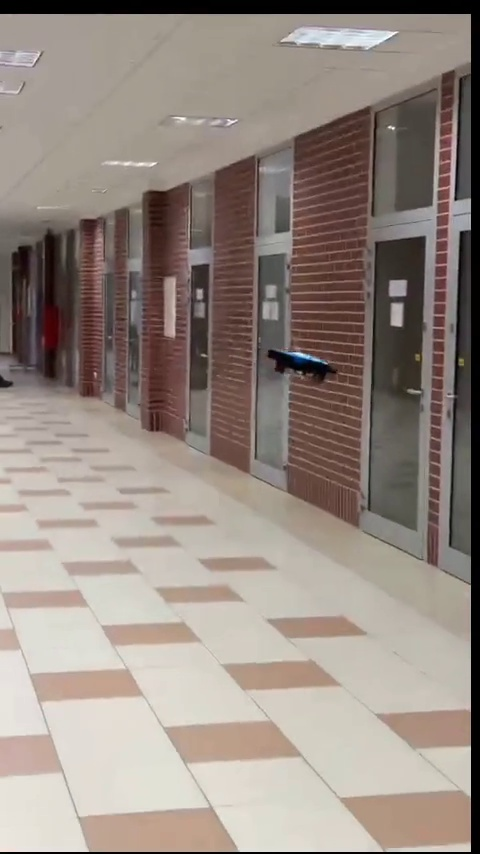drone: (267, 339, 336, 381)
